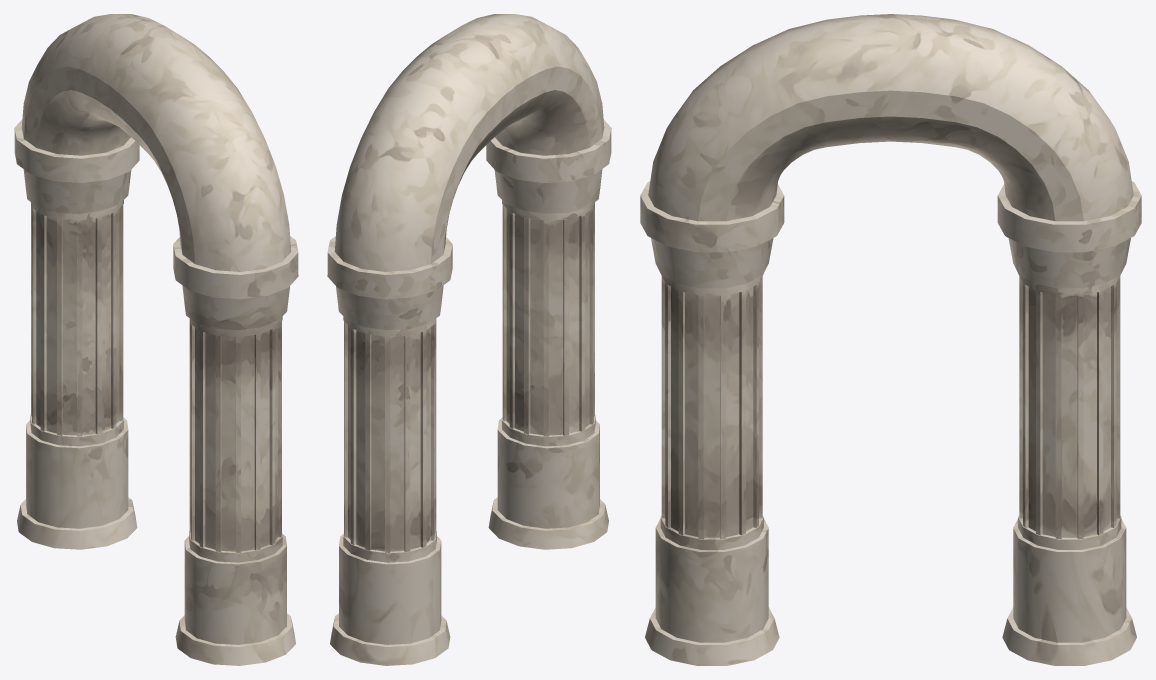
Rendered from kolumna_podwojna.obj.
3 views of the same model, side by side, from view 1: azimuth 30°, elevation 25°; view 2: azimuth 150°, elevation 25°; view 3: azimuth 270°, elevation 25° (orthographic). The views are drawn at different scales.
Visible parts, largest first — view 1: Cylinder.006; view 2: Cylinder.006; view 3: Cylinder.006.
Boxes of the visible parts, left/top/right/bottom form: Cylinder.006: left=14, top=14, right=298, bottom=665; Cylinder.006: left=327, top=14, right=611, bottom=665; Cylinder.006: left=640, top=14, right=1141, bottom=665.
Bounding box in the file's own units: 6.37 × 31.36 × 23.07.
1 material, 1 textured.
